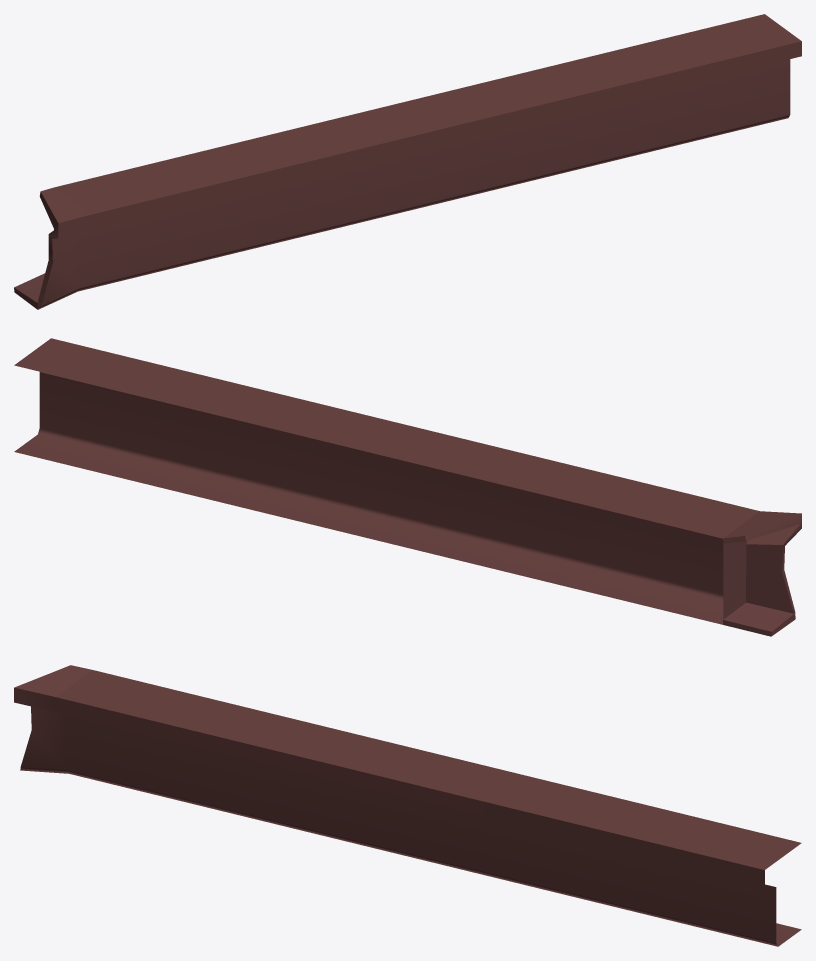
File: DBK_Trim_C_End_Mirror.fbx
The picture shows the model from 3 angles, top to bottom: view 1: azimuth 30°, elevation 25°; view 2: azimuth 150°, elevation 25°; view 3: azimuth 330°, elevation 25°; orthographic projection.
Parts seen in each view (by area): view 1: DBK_Trim_C_End_Mirror; view 2: DBK_Trim_C_End_Mirror; view 3: DBK_Trim_C_End_Mirror.
Boxes of the visible parts, x1,y1,x2,y2 form: DBK_Trim_C_End_Mirror: (14, 14, 801, 309); DBK_Trim_C_End_Mirror: (14, 338, 801, 636); DBK_Trim_C_End_Mirror: (14, 665, 801, 946).
Size of the model in its own units: 142 by 16.98 by 13.53.
